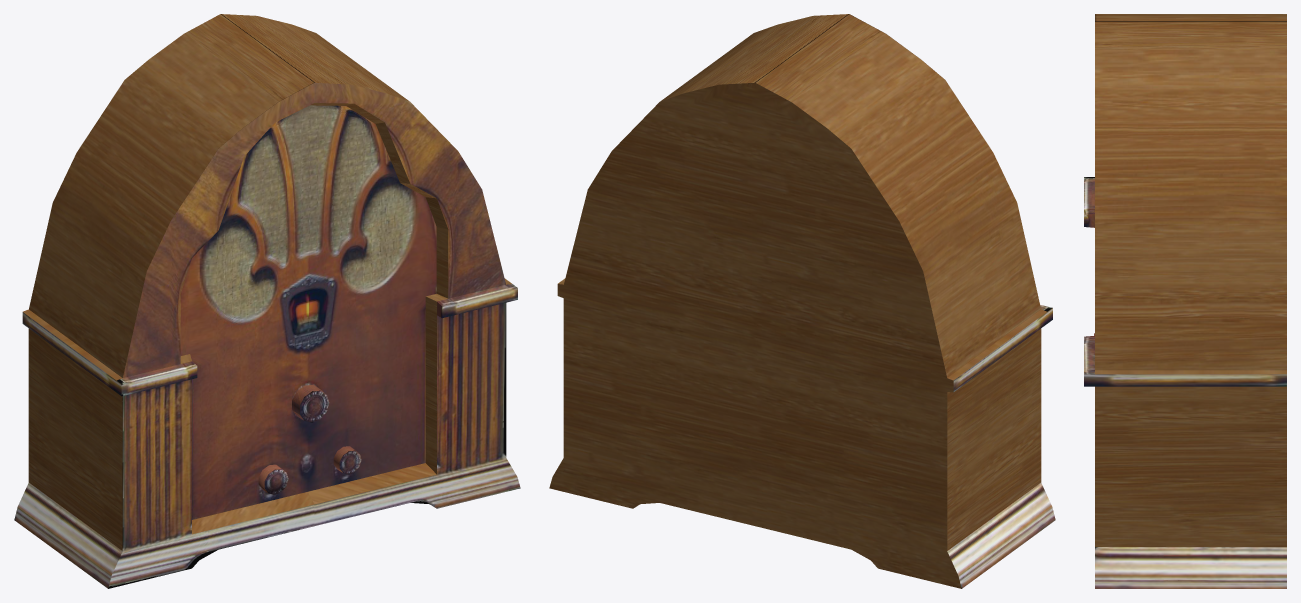
The model's file is ClockModel.FBX.
The picture shows the model from 3 angles, left to right: view 1: azimuth 30°, elevation 25°; view 2: azimuth 150°, elevation 25°; view 3: azimuth 270°, elevation 25°; orthographic projection. The views are drawn at different scales.
Visible parts, largest first — view 1: Box003; view 2: Box003; view 3: Box003.
Boxes of the visible parts, x1,y1,x2,y2 form: Box003: (14, 14, 520, 588); Box003: (549, 14, 1055, 588); Box003: (1084, 14, 1286, 588).
Bounding box in the file's own units: 51.19 × 54.07 × 21.35.
1 material, 1 textured.
